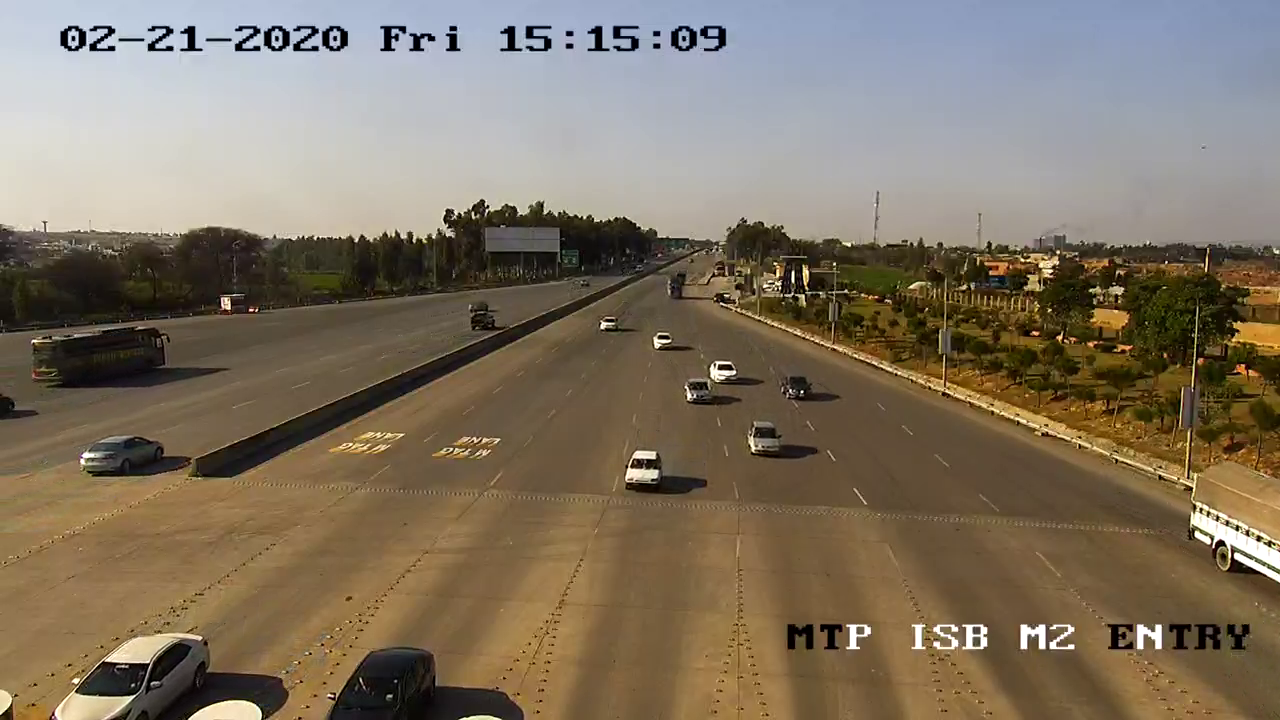f1: (615, 442, 670, 494), (744, 414, 788, 462)
